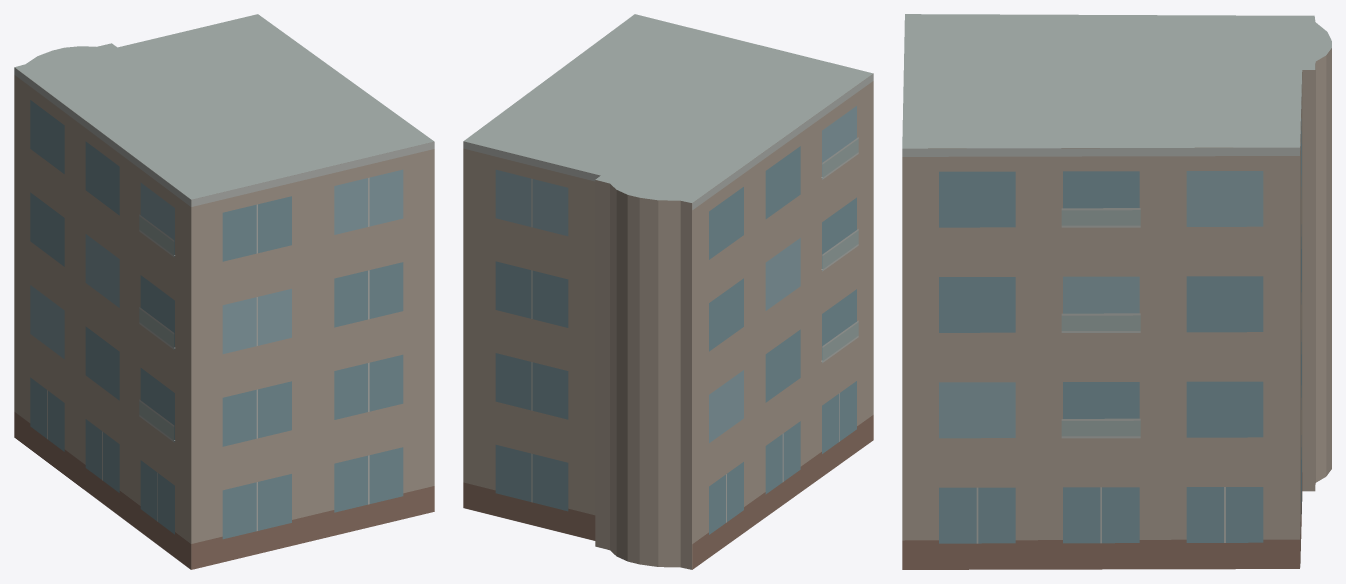
The model's file is survey-upis-32979568.glb.
3 views of the same model, side by side, from view 1: azimuth 30°, elevation 25°; view 2: azimuth 150°, elevation 25°; view 3: azimuth 270°, elevation 25° (orthographic). The views are drawn at different scales.
Visible parts, largest first — view 1: survey-upis-32979568.tmp; view 2: survey-upis-32979568.tmp; view 3: survey-upis-32979568.tmp.
Part boxes in pixels (x1,y1,x2,y2): survey-upis-32979568.tmp: (14,14,434,569); survey-upis-32979568.tmp: (463,14,873,569); survey-upis-32979568.tmp: (902,14,1331,569).
Bounding box in the file's own units: 8.4 × 12.2 × 11.28.
